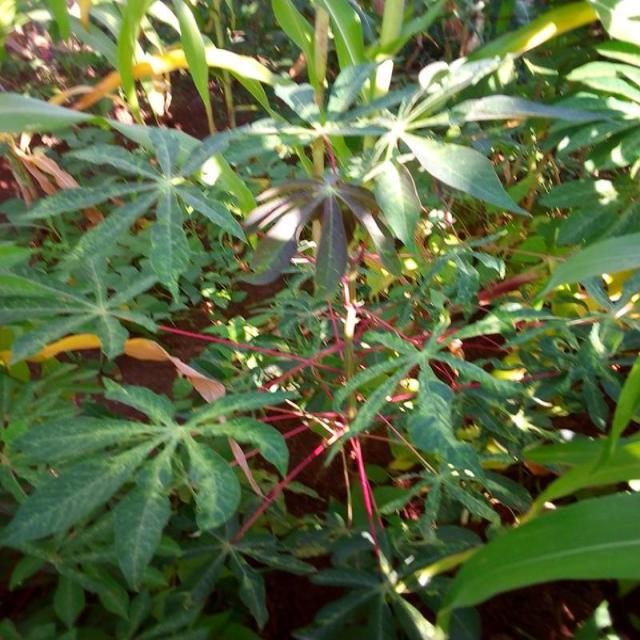cassava leaf: (2, 1, 639, 637), (436, 489, 640, 628)
